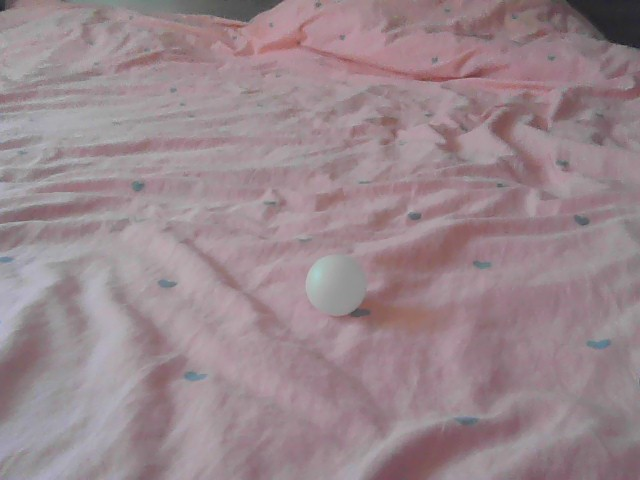ball: (309, 254, 365, 315)
